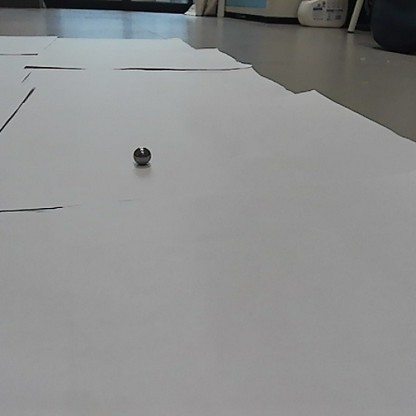ironball: (129, 143, 153, 167)
